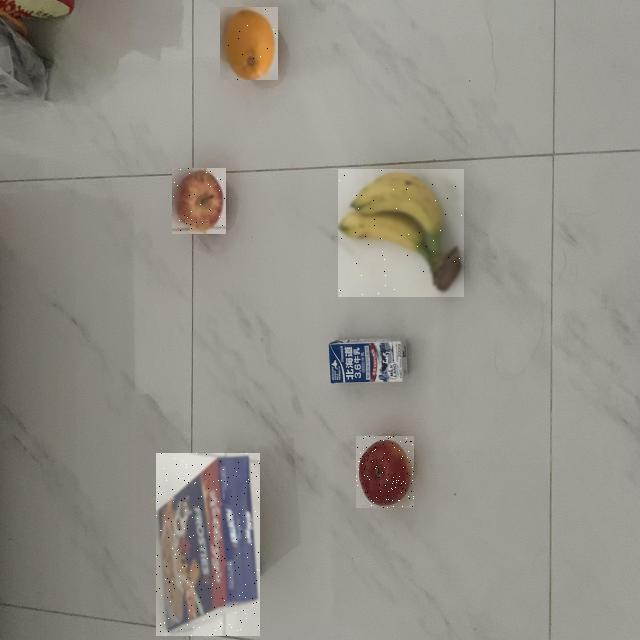Apple: (357, 436, 415, 508), (172, 168, 226, 234)
Banana: (338, 169, 464, 297)
Cereal: (156, 453, 260, 636)
Orange: (221, 7, 279, 80)
